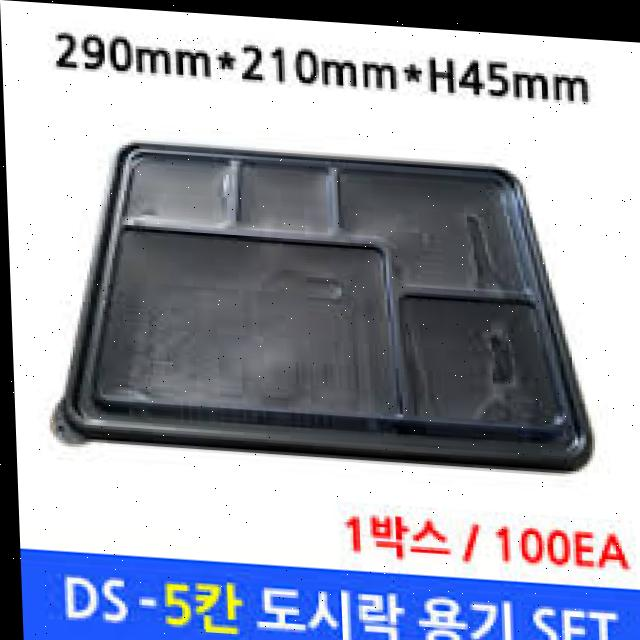disposable: (32, 117, 606, 491)
